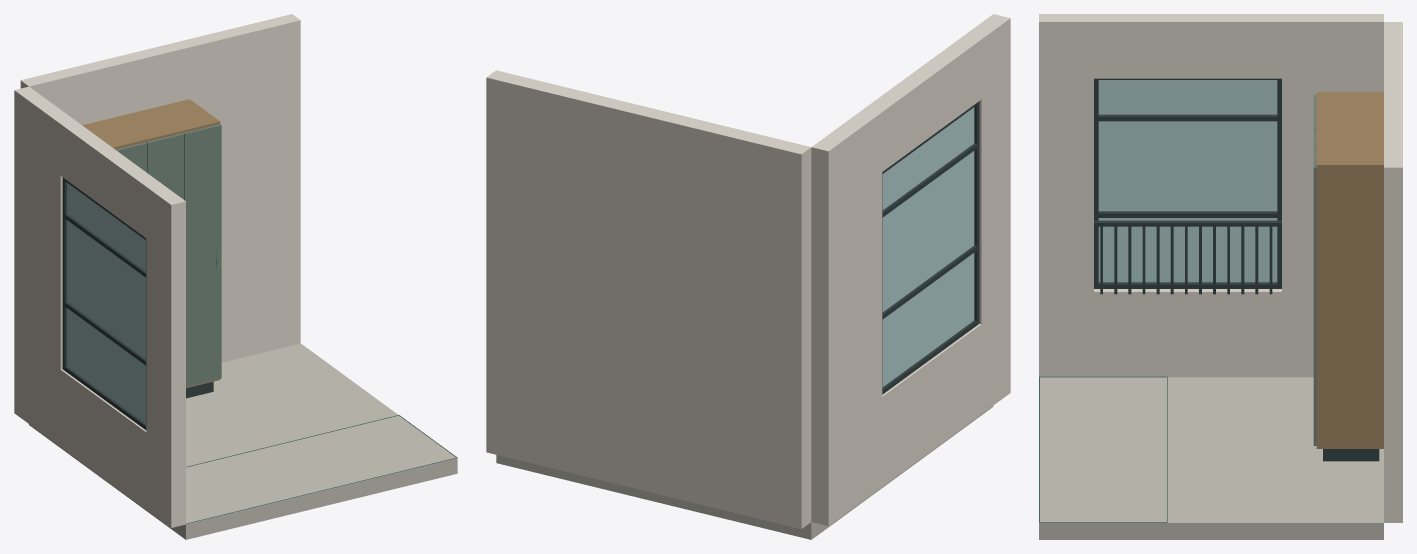
3 renders of one model, left to right at view 1: azimuth 30°, elevation 25°; view 2: azimuth 150°, elevation 25°; view 3: azimuth 270°, elevation 25°, orthographic. The views are drawn at different scales.
Visible parts, largest first — view 1: Rear wall - provisional, Measured landing - 2200 x 2200 mm, Left lower wall, Left opening rear reveal, Left opening front reveal, General storage right closed door, Replacement glazing - not a certified guard.001, Left opening head, Replacement glazing - not a certified guard, Dry storage horizontal.001, Replacement glazing - not a certified guard.002, General storage left closed door (+5 smaller); view 2: Rear wall - provisional, Left opening rear reveal, Left lower wall, Left opening front reveal, Replacement glazing - not a certified guard.001, Left opening head, Replacement glazing - not a certified guard, Replacement glazing - not a certified guard.002, Measured landing - 2200 x 2200 mm, Replacement window jamb, Replacement window rail.002, Replacement window rail (+1 smaller); view 3: Measured landing - 2200 x 2200 mm, Left lower wall, Dry storage upright.002, Replacement glazing - not a certified guard.001, Left opening front reveal, Left opening rear reveal, Left opening head, Rear wall - provisional, Replacement glazing - not a certified guard, Replacement glazing - not a certified guard.002, Dry storage horizontal.001, Replacement window rail.002 (+8 smaller).
Part boxes in pixels (<box>): Rear wall - provisional: <box>20,14,300,362</box>; Measured landing - 2200 x 2200 mm: <box>29,343,457,539</box>; Left lower wall: <box>14,336,185,527</box>; Left opening rear reveal: <box>14,86,74,369</box>; Left opening front reveal: <box>146,183,185,450</box>; General storage right closed door: <box>183,124,221,386</box>; Replacement glazing - not a certified guard.001: <box>67,220,145,359</box>; Left opening head: <box>60,120,160,237</box>; Replacement glazing - not a certified guard: <box>67,308,145,423</box>; Dry storage horizontal.001: <box>82,100,220,149</box>; Replacement glazing - not a certified guard.002: <box>67,183,145,271</box>; General storage left closed door: <box>146,133,184,199</box>; Rear wall - provisional: <box>486,70,811,529</box>; Left opening rear reveal: <box>811,108,882,435</box>; Left lower wall: <box>811,303,1010,525</box>; Left opening front reveal: <box>965,14,1010,323</box>; Replacement glazing - not a certified guard.001: <box>882,151,974,311</box>; Left opening head: <box>865,35,981,171</box>; Replacement glazing - not a certified guard: <box>882,253,974,386</box>; Replacement glazing - not a certified guard.002: <box>882,107,974,209</box>; Measured landing - 2200 x 2200 mm: <box>496,406,993,539</box>; Replacement window jamb: <box>974,101,979,324</box>; Replacement window rail.002: <box>882,143,978,217</box>; Replacement window rail: <box>882,320,978,393</box>; Measured landing - 2200 x 2200 mm: <box>1039,377,1383,539</box>; Left lower wall: <box>1039,289,1313,377</box>; Dry storage upright.002: <box>1316,163,1383,446</box>; Replacement glazing - not a certified guard.001: <box>1098,121,1277,211</box>; Left opening front reveal: <box>1039,14,1093,291</box>; Left opening rear reveal: <box>1282,14,1383,291</box>; Left opening head: <box>1094,14,1281,78</box>; Rear wall - provisional: <box>1384,22,1402,522</box>; Replacement glazing - not a certified guard: <box>1098,218,1277,282</box>; Replacement glazing - not a certified guard.002: <box>1098,80,1277,114</box>; Dry storage horizontal.001: <box>1316,93,1383,167</box>; Replacement window rail.002: <box>1094,114,1281,121</box>.
Size of the model in its own units: 2.32 by 2.62 by 2.32.
